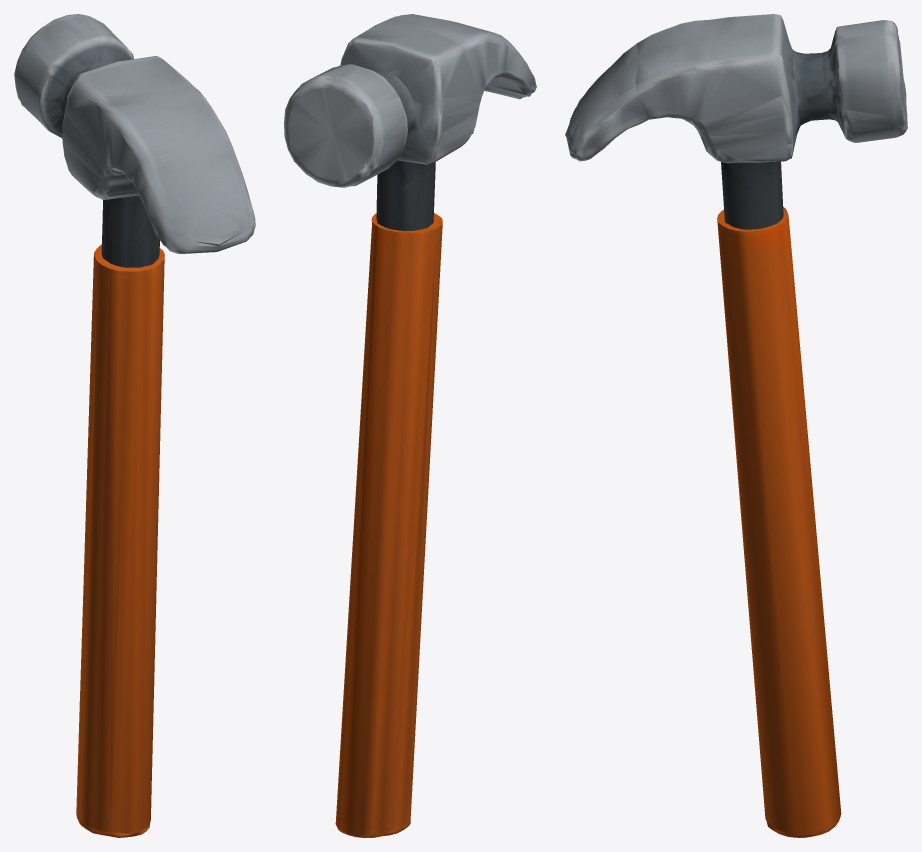
File: MODEL_CuteHammer.fbx
3 views of the same model, side by side, from view 1: azimuth 30°, elevation 25°; view 2: azimuth 150°, elevation 25°; view 3: azimuth 270°, elevation 25° (orthographic).
Visible parts, largest first — view 1: hammer.001 (1), hammer; view 2: hammer.001 (1), hammer; view 3: hammer.001 (1), hammer.
Part boxes in pixels (x1,y1,x2,y2): hammer.001 (1): (76,244,164,837); hammer: (14,14,255,267); hammer.001 (1): (335,213,442,837); hammer: (284,14,536,230); hammer.001 (1): (717,207,841,837); hammer: (565,14,907,229).
Size of the model in its own units: 28.07 by 198 by 77.2.
1 material, 1 textured.
